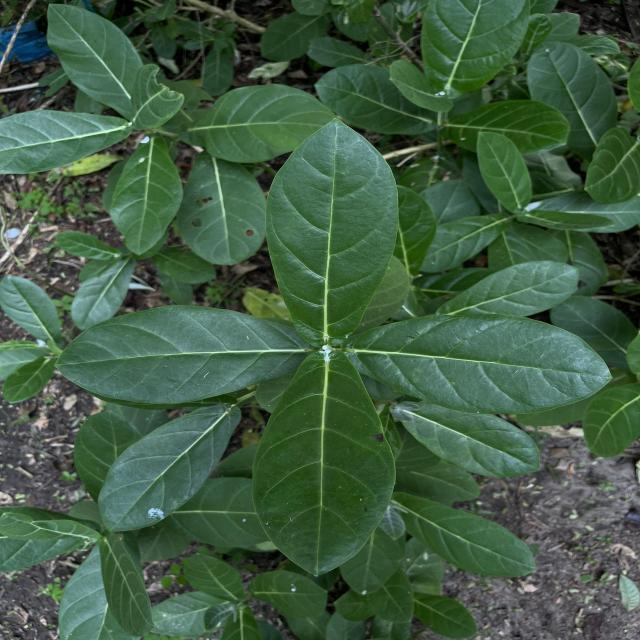Calotropis gigantea: (250, 352, 398, 578), (262, 116, 402, 340), (340, 313, 616, 416), (51, 302, 312, 406), (96, 403, 242, 534), (395, 490, 537, 580), (192, 84, 340, 165), (44, 2, 144, 114), (400, 405, 546, 480), (178, 154, 272, 267), (418, 0, 532, 91), (528, 40, 618, 155), (108, 133, 186, 257), (1, 108, 131, 176), (436, 259, 580, 317), (476, 131, 534, 213), (1, 274, 62, 350), (72, 259, 136, 330), (583, 127, 640, 206)
